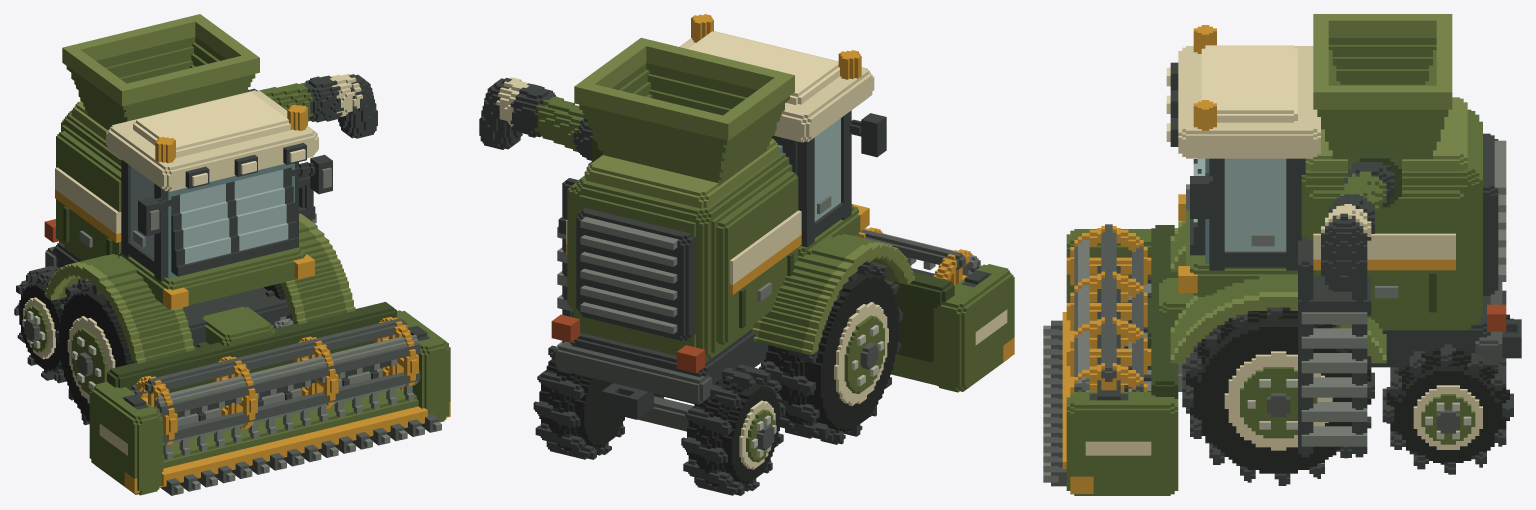
File: combine_harvester.glb
3 renders of one model, left to right at view 1: azimuth 30°, elevation 25°; view 2: azimuth 150°, elevation 25°; view 3: azimuth 270°, elevation 25°, orthographic. The views are drawn at different scales.
Visible parts, largest first — view 1: combine_harvester; view 2: combine_harvester; view 3: combine_harvester.
Part boxes in pixels (bbox=[...]): combine_harvester: bbox=[14, 14, 450, 495]; combine_harvester: bbox=[479, 14, 1014, 495]; combine_harvester: bbox=[1043, 14, 1521, 495].
Size of the model in its own units: 8.12 by 7.02 by 8.06.
